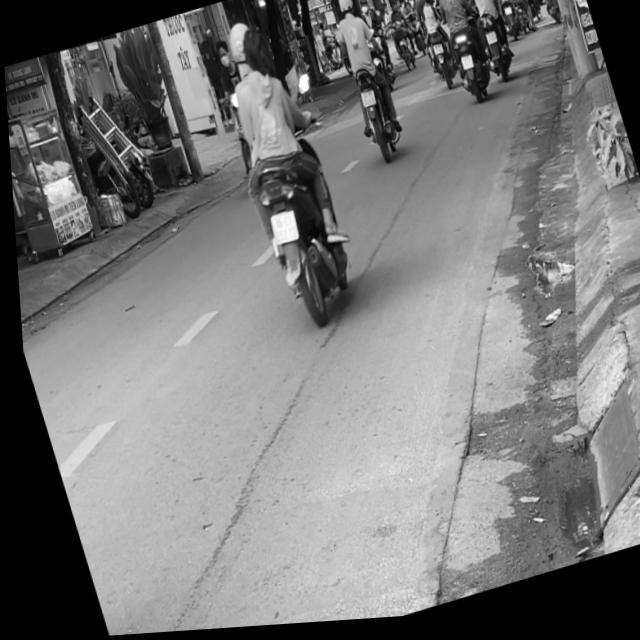helmet: (219, 21, 258, 80), (332, 0, 353, 22)
licenseplate: (192, 6, 368, 342), (318, 0, 407, 170)
motorcyclist: (232, 24, 274, 86)
nohelmet: (262, 212, 295, 247), (355, 92, 373, 112)
